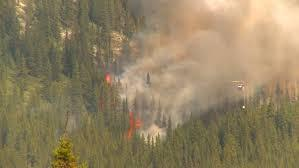fire: (126, 111, 143, 140)
smoke: (115, 1, 299, 139)
